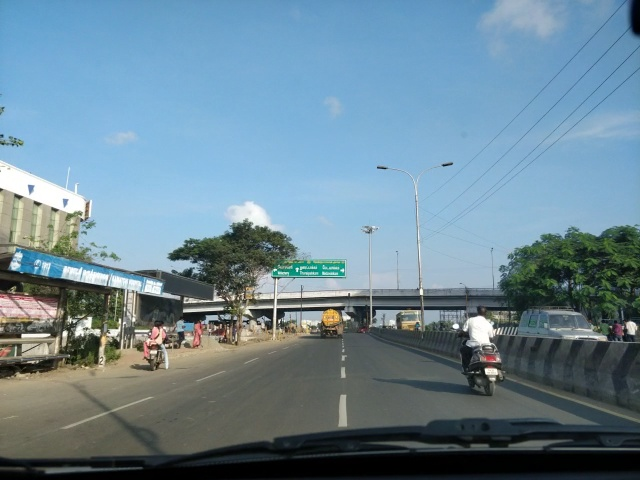car: (523, 307, 608, 337)
motorbike: (458, 305, 507, 395), (147, 319, 172, 373)
person: (189, 319, 203, 352)
truck: (319, 307, 345, 337), (397, 310, 420, 328)
